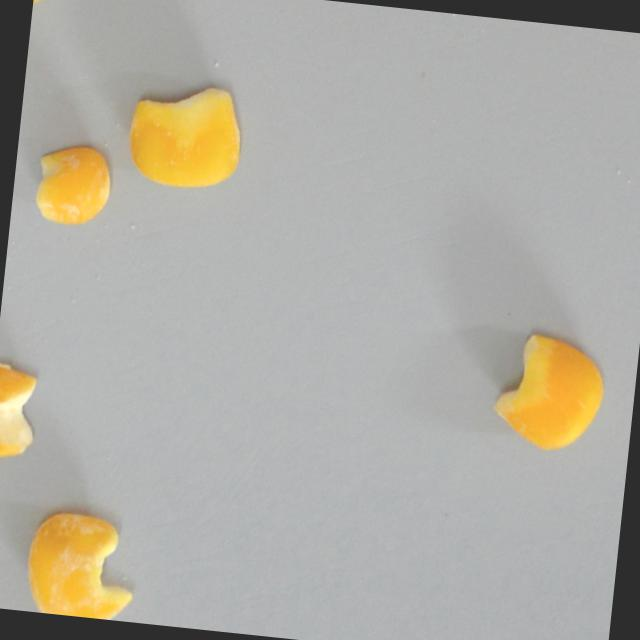no_canjicado: (488, 328, 607, 455), (124, 77, 245, 191)
pelicula: (20, 506, 139, 622), (29, 139, 112, 228), (0, 360, 39, 465)
